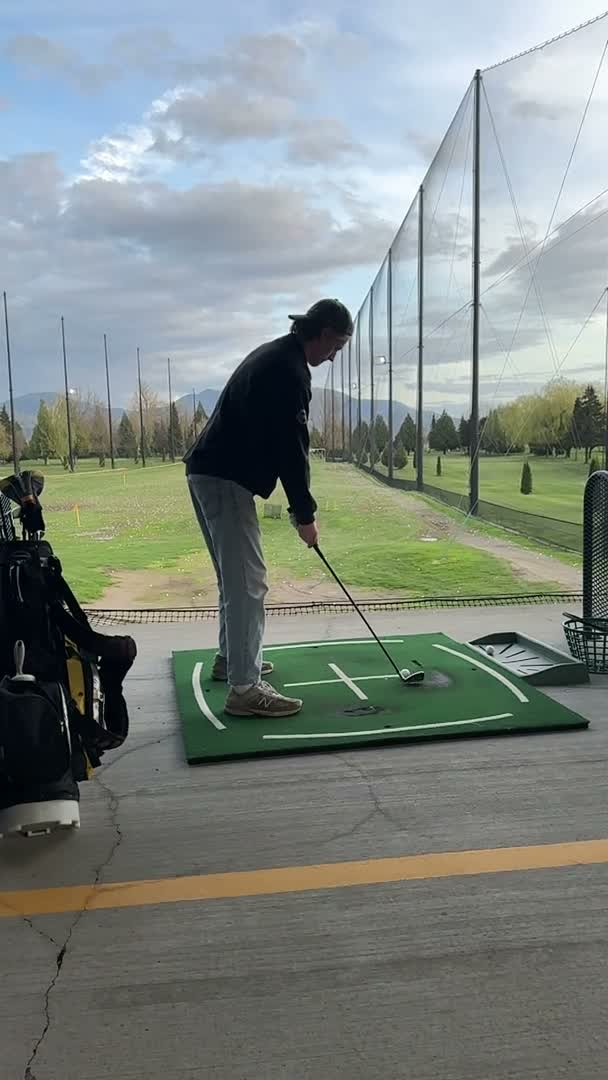Golf Ball: (397, 667, 415, 685)
